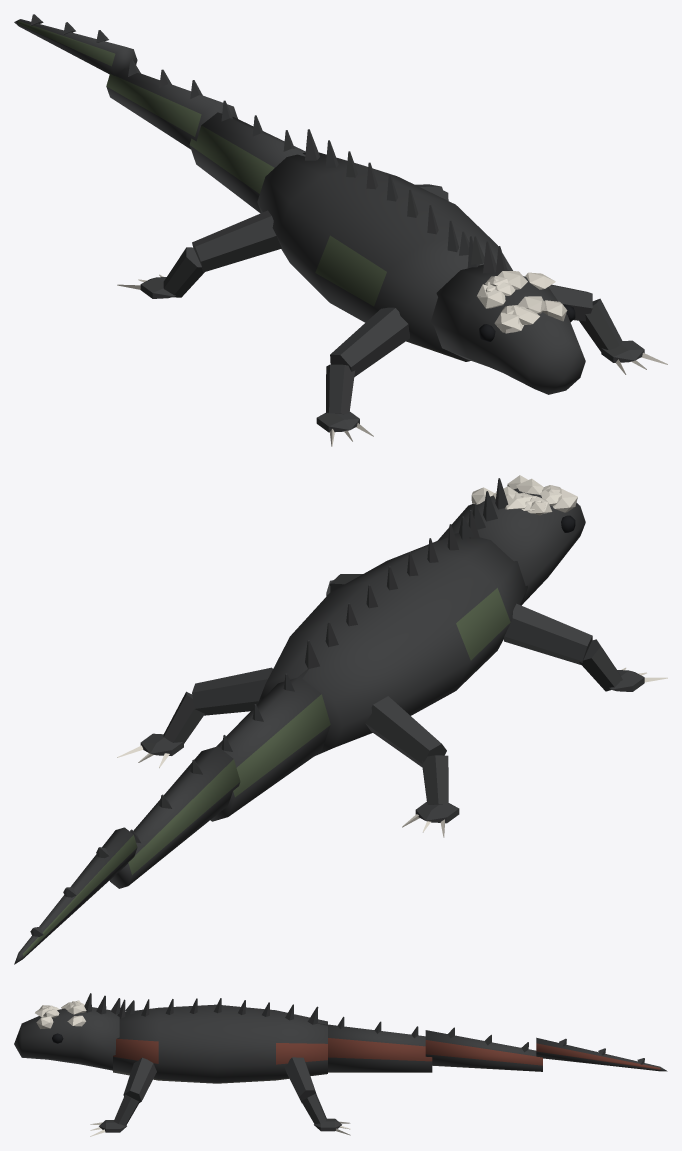
The model's file is iguana.glb.
3 renders of one model, top to bottom at view 1: azimuth 30°, elevation 25°; view 2: azimuth 150°, elevation 25°; view 3: azimuth 270°, elevation 25°, orthographic. The views are drawn at different scales.
Visible parts, largest first — view 1: Iguana_Body, Iguana_Head, Iguana_Tail1, Iguana_LegFR, Iguana_Tail2, Iguana_LegBR, Iguana_LegFL, Iguana_Tail3; view 2: Iguana_Body, Iguana_Head, Iguana_Tail1, Iguana_Tail2, Iguana_LegBR, Iguana_LegFR, Iguana_LegBL, Iguana_Tail3; view 3: Iguana_Body, Iguana_Head, Iguana_Tail1, Iguana_Tail2, Iguana_Tail3, Iguana_LegFL, Iguana_LegBL.
Boxes of the visible parts, left/top/right/bottom form: Iguana_Body: left=257, top=129, right=512, bottom=361; Iguana_Head: left=430, top=231, right=585, bottom=394; Iguana_Tail1: left=189, top=100, right=305, bottom=213; Iguana_LegFR: left=316, top=307, right=409, bottom=446; Iguana_Tail2: left=106, top=59, right=237, bottom=149; Iguana_LegBR: left=117, top=210, right=281, bottom=298; Iguana_LegFL: left=548, top=284, right=667, bottom=374; Iguana_Tail3: left=14, top=14, right=137, bottom=75; Iguana_Body: left=258, top=510, right=527, bottom=755; Iguana_Head: left=437, top=475, right=585, bottom=605; Iguana_Tail1: left=210, top=668, right=330, bottom=821; Iguana_Tail2: left=109, top=746, right=240, bottom=888; Iguana_LegBR: left=365, top=696, right=459, bottom=837; Iguana_LegFR: left=504, top=603, right=667, bottom=691; Iguana_LegBL: left=117, top=667, right=272, bottom=767; Iguana_Tail3: left=14, top=827, right=137, bottom=964; Iguana_Body: left=113, top=998, right=327, bottom=1083; Iguana_Head: left=14, top=993, right=134, bottom=1070; Iguana_Tail1: left=318, top=1016, right=432, bottom=1072; Iguana_Tail2: left=425, top=1027, right=542, bottom=1071; Iguana_Tail3: left=536, top=1037, right=667, bottom=1071; Iguana_LegFL: left=90, top=1057, right=156, bottom=1136; Iguana_LegBL: left=284, top=1057, right=350, bottom=1135.
Size of the model in its own units: 0.3547 by 0.1612 by 1.
